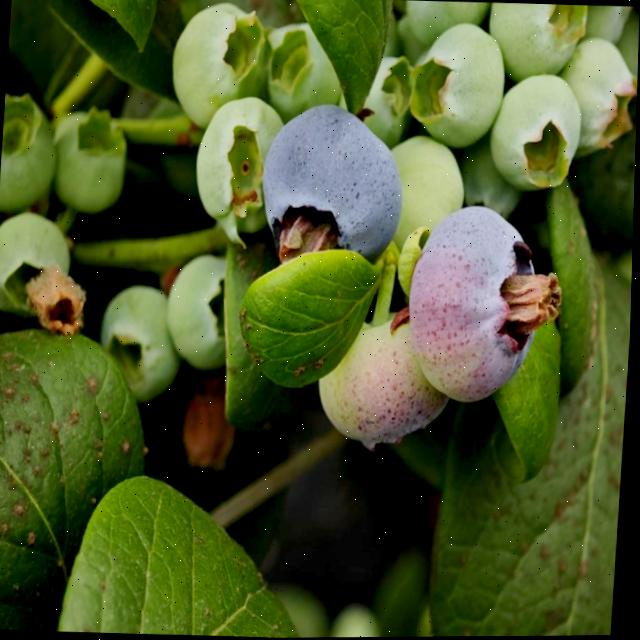RipeBlueBerry: (261, 101, 408, 267)
Semi-RipeBlueBerry: (411, 205, 544, 404)
UnripeBlueBerry: (317, 313, 461, 453), (191, 95, 288, 237), (169, 0, 276, 121), (409, 21, 506, 149), (494, 72, 583, 193), (97, 285, 183, 407), (164, 251, 241, 373), (0, 208, 75, 322)
